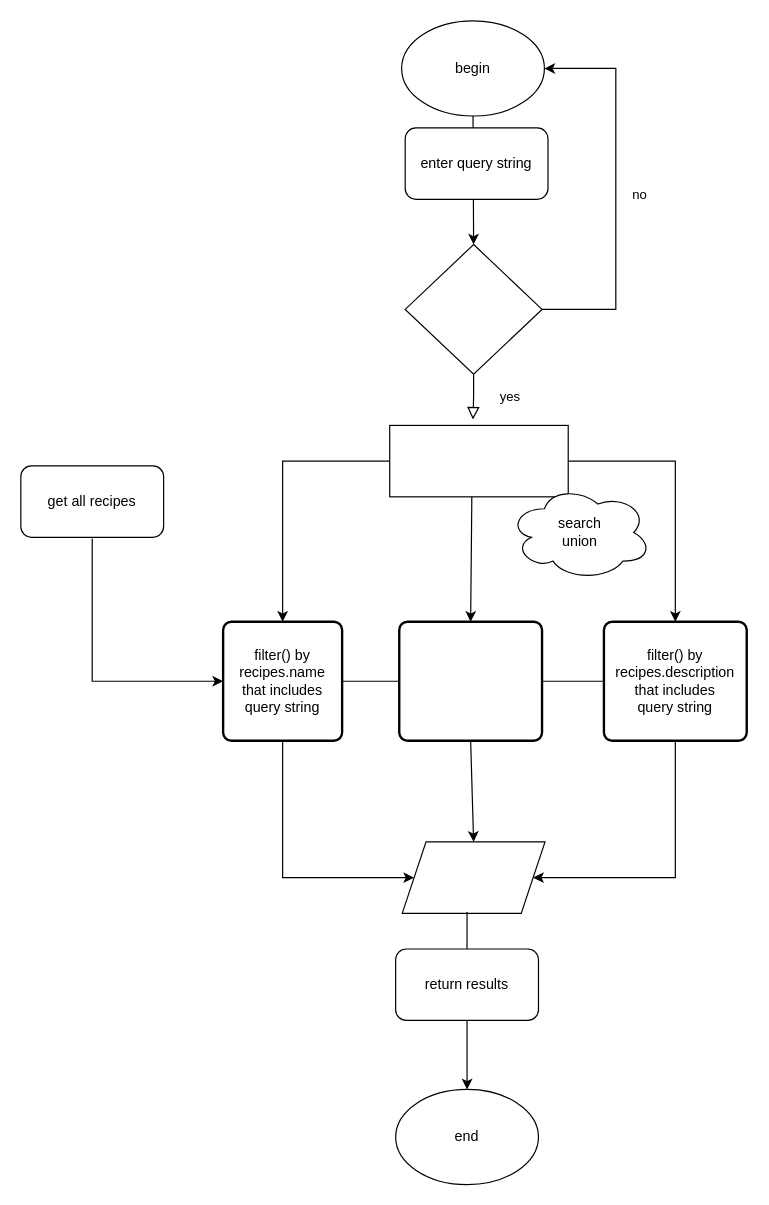
Some shapes in this 769 by 1205 pixel diagram are drawn without their labels. Each missing label, with the box of its shape:
filter() by recipes.ingredients that includes query string: (397, 620, 543, 741)
normalize query string: (389, 424, 568, 497)
query string.length > 2: (404, 243, 542, 374)
results union: (401, 841, 545, 913)
